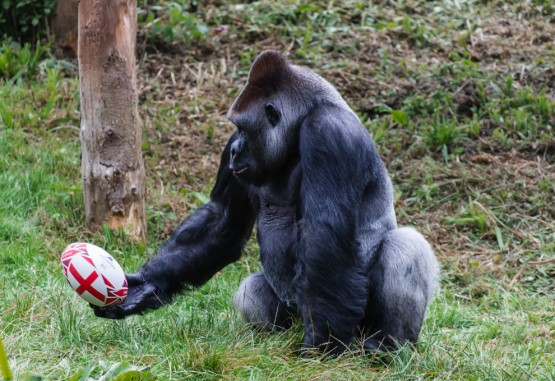Gorilla: (192, 51, 438, 352)
